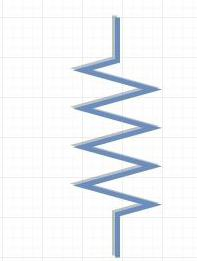resistor: (54, 35, 172, 237)
